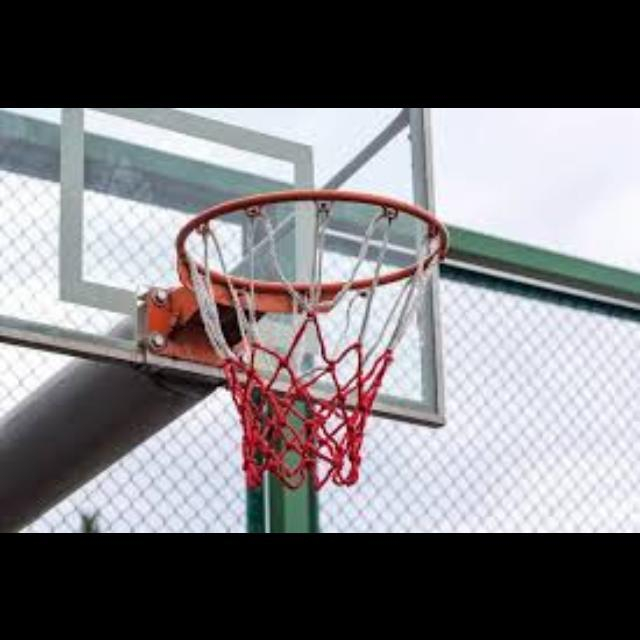rim: (176, 189, 448, 487)
